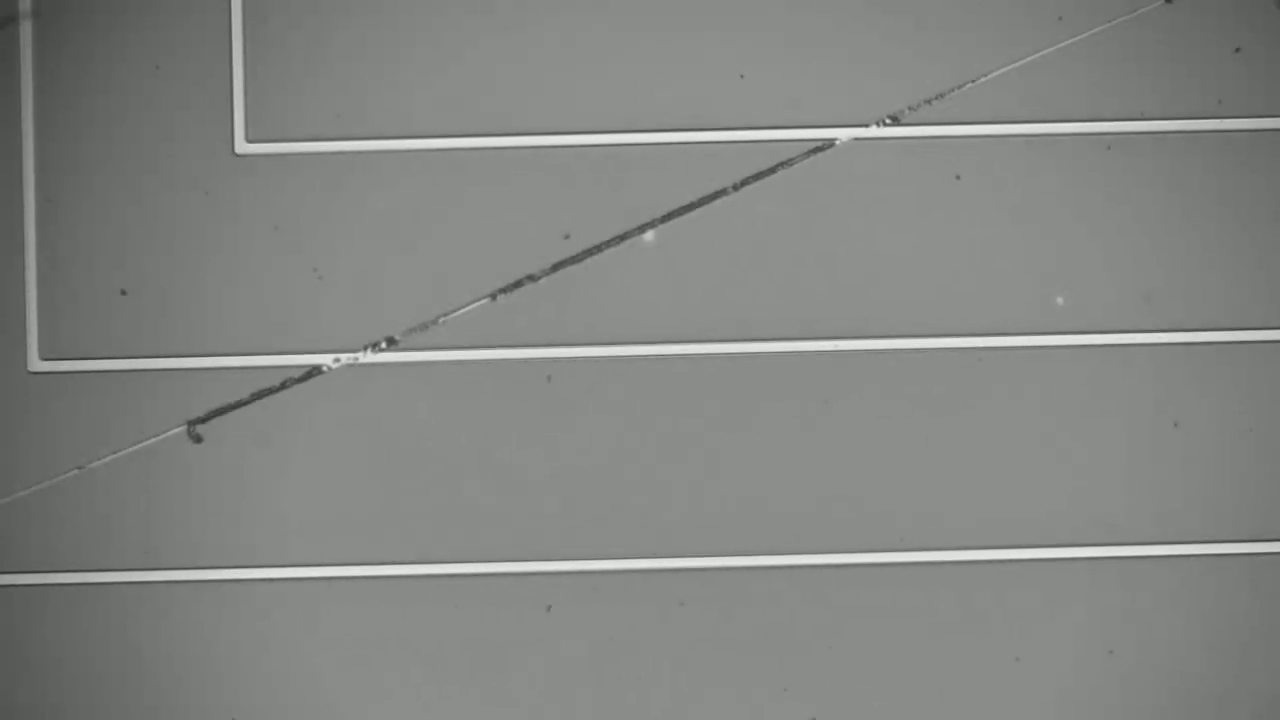scratch: (12, 1, 1167, 504)
